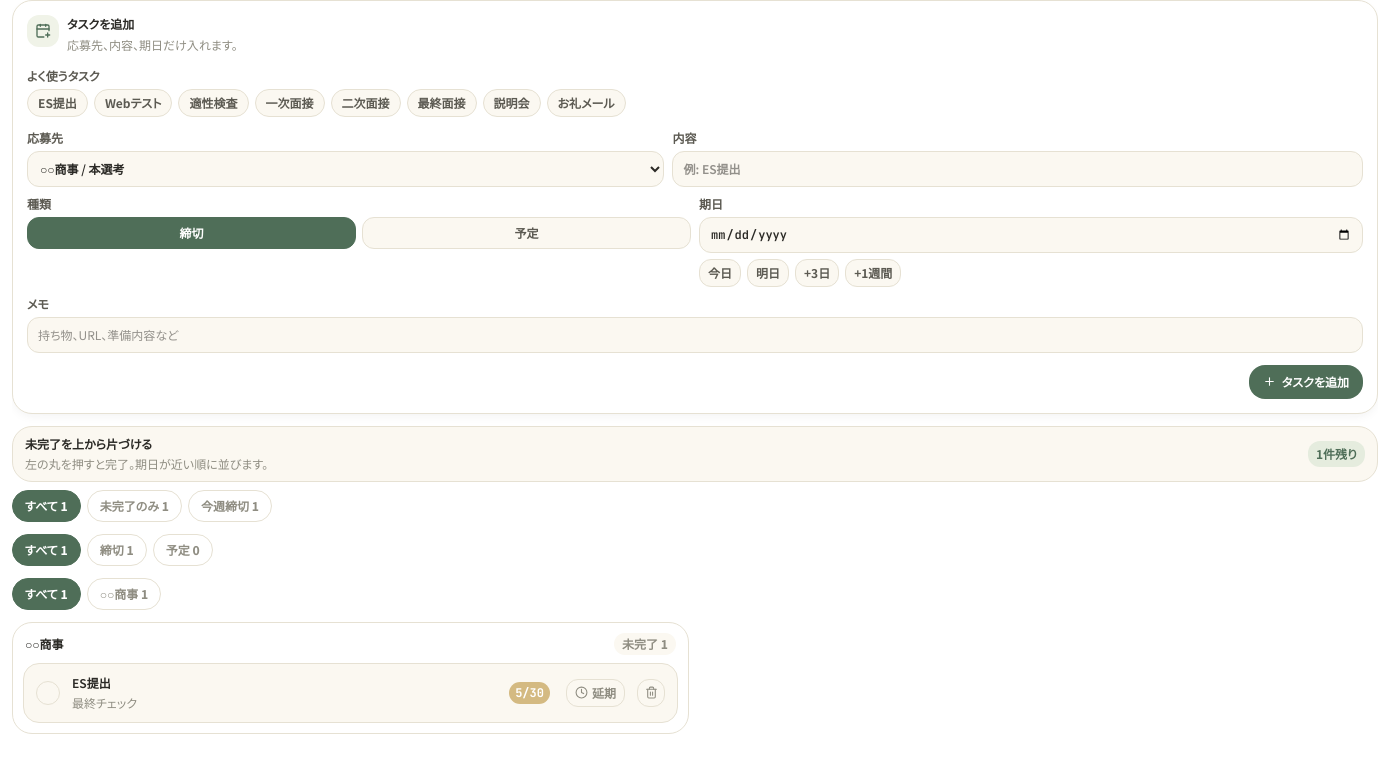
Scenario: TaskListView › Server Action が失敗したら楽観更新を巻き戻しエラーを表示し、祝福しない
Step 1. Click the button named "タスク完了にする" → x=48, y=692, box 36,680 -> 60,704
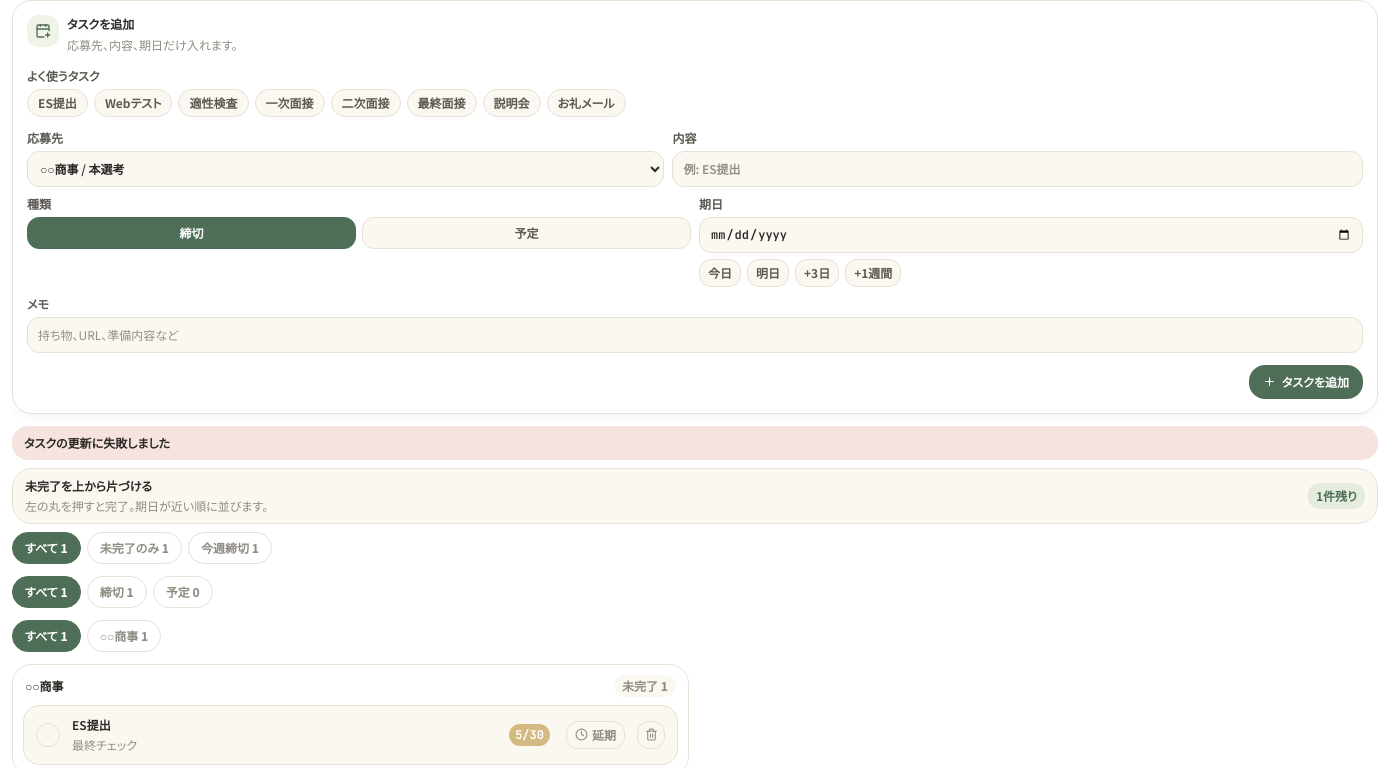
Check: the message "タスクの更新に失敗しました" is shown, box 12,426 -> 1377,460
